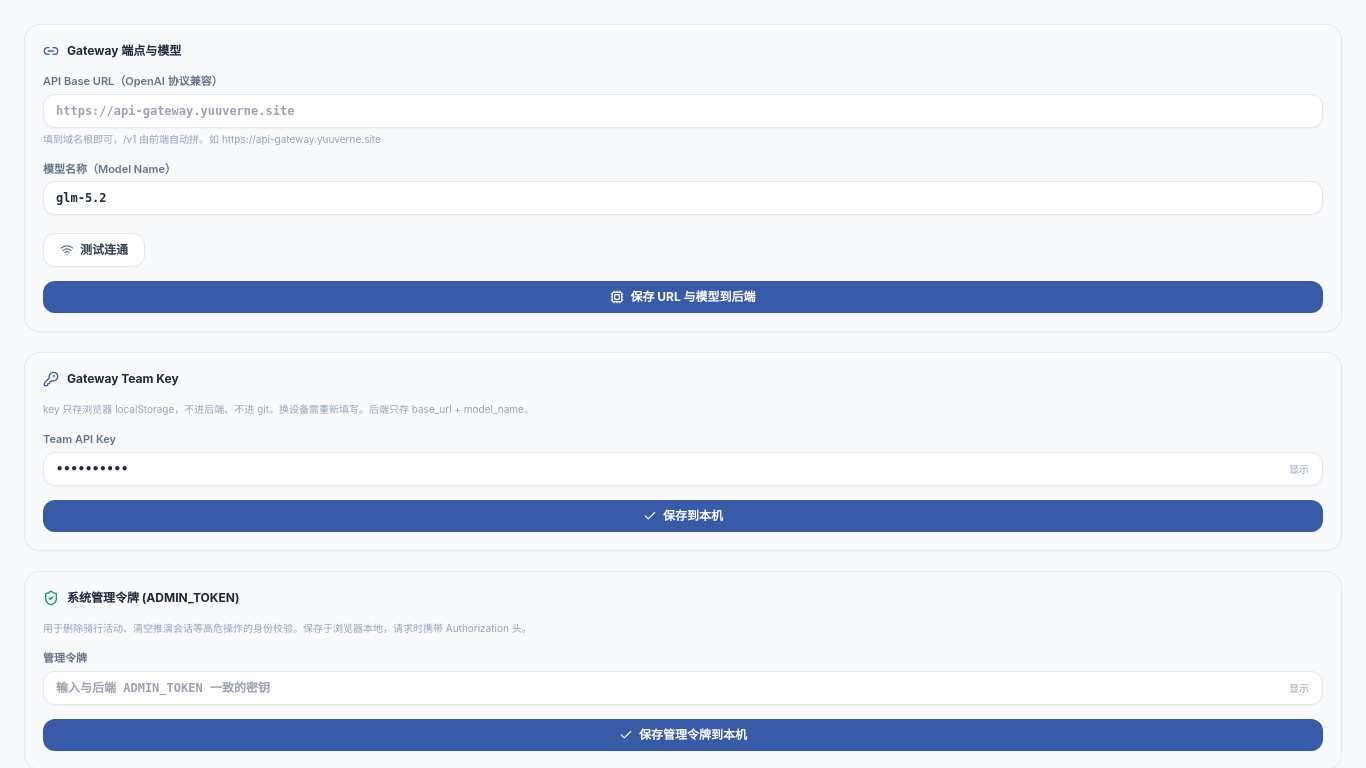
Test case: AIGatewayConfigTab AI 接入配置 › 保存 key：写 localStorage 并提示已保存
The width and height of the screenshot is (1366, 768).
Replace the text in the field with placeholder "sk-..." below "Team API Key" with "new-key-123": (683, 469) x1=43 y1=452 x2=1323 y2=486
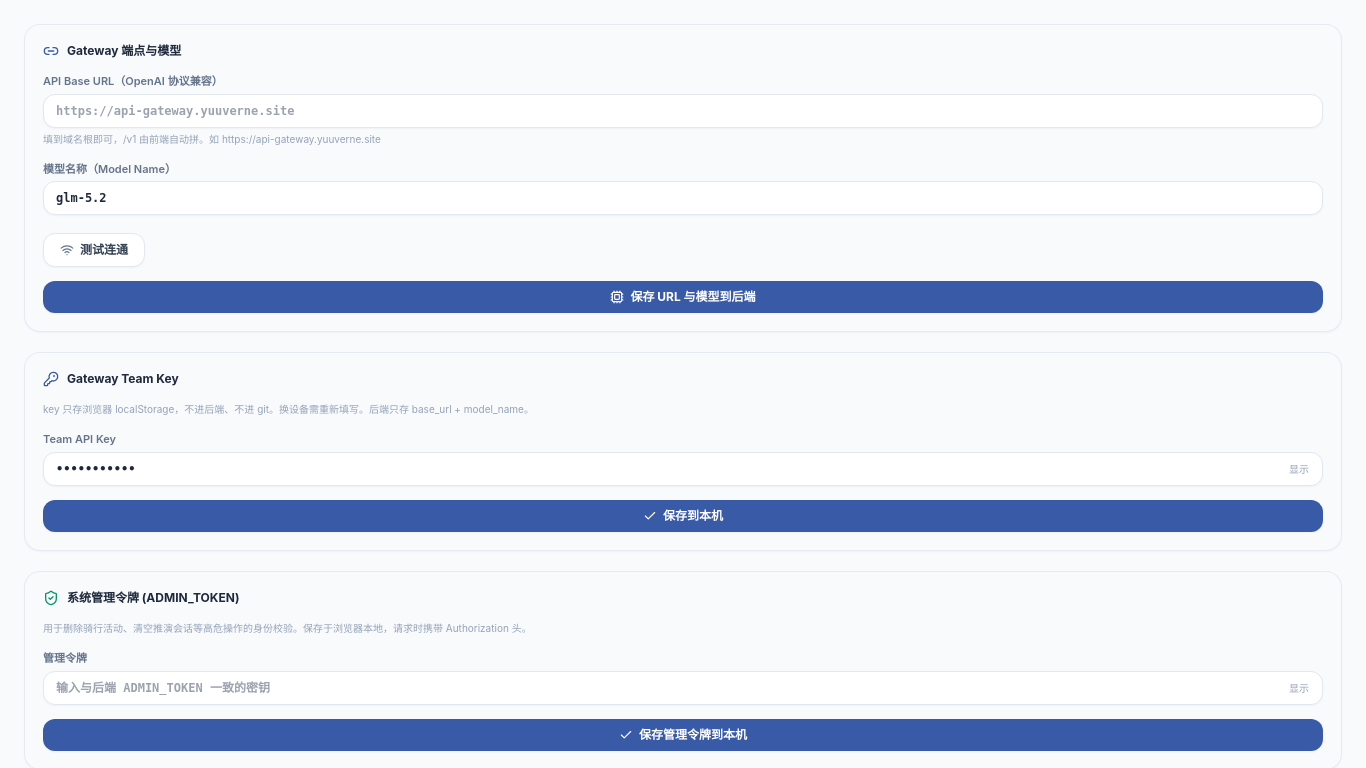
Click the button "保存到本机": click(683, 516) x1=43 y1=500 x2=1323 y2=532
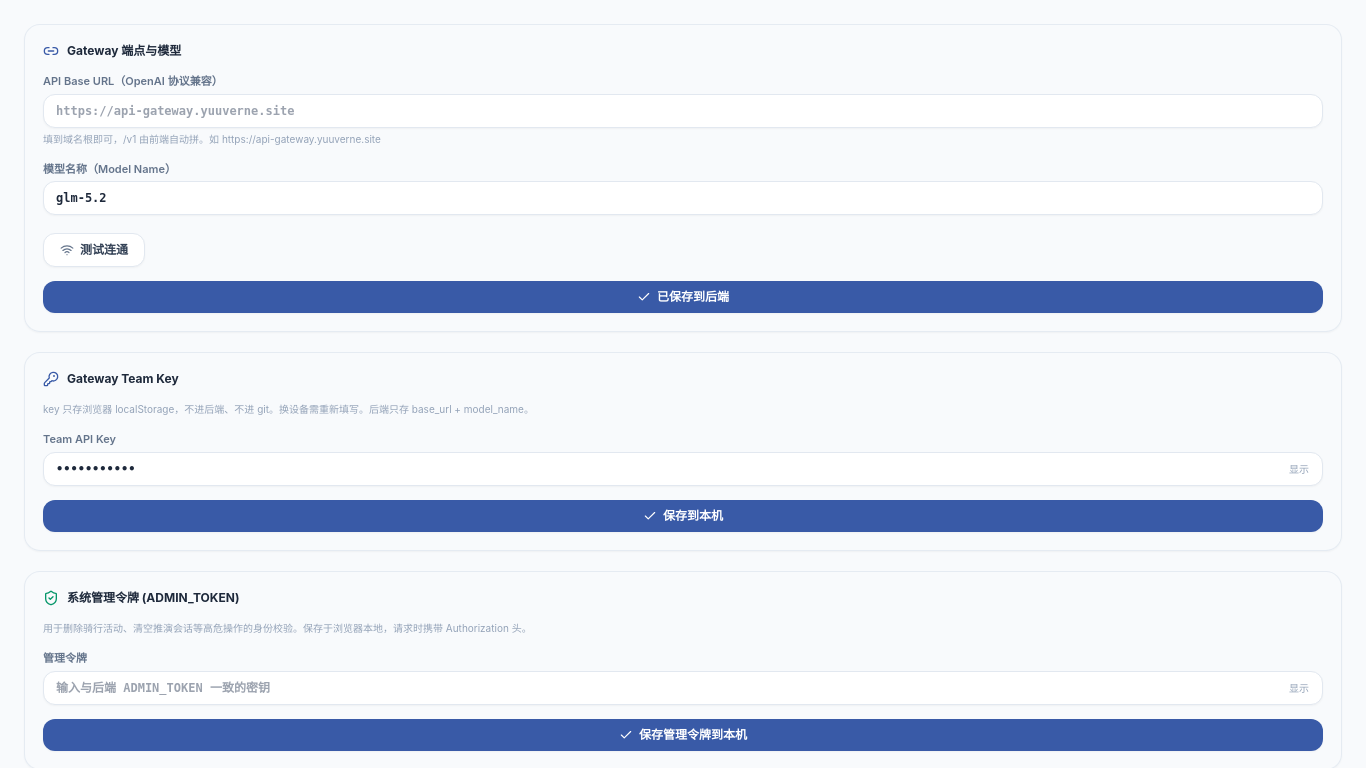
Expected: the text "已保存到后端" is shown, x1=657 y1=289 x2=729 y2=305
